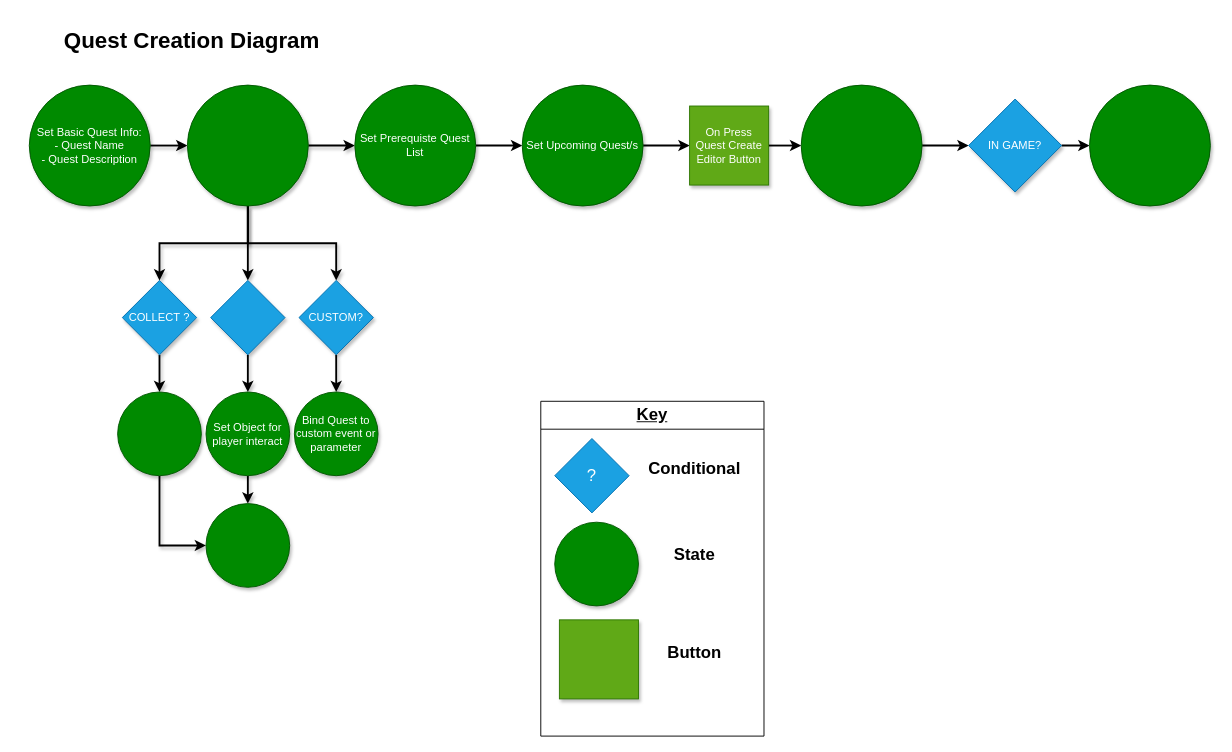
The diagram is 1232 pixels wide and 752 high, and some of its shapes have lost their labels. The shapes that lost their labels are listed below. From the top down, each one's centre as x and y in pixels, then its label:
(248,146): Set Quest Type: (COLLECT, INTERACT, or CUSTOM)
(862,146): Add Quest with its properties to Master quest list
(1150,146): CHECK QUEST STATES START - Start of Quest State Diagram
(248,318): INTERACT?
(160,434): Set Item and Amount/s to collect
(248,546): Set Item or interactables Spawn Locations
